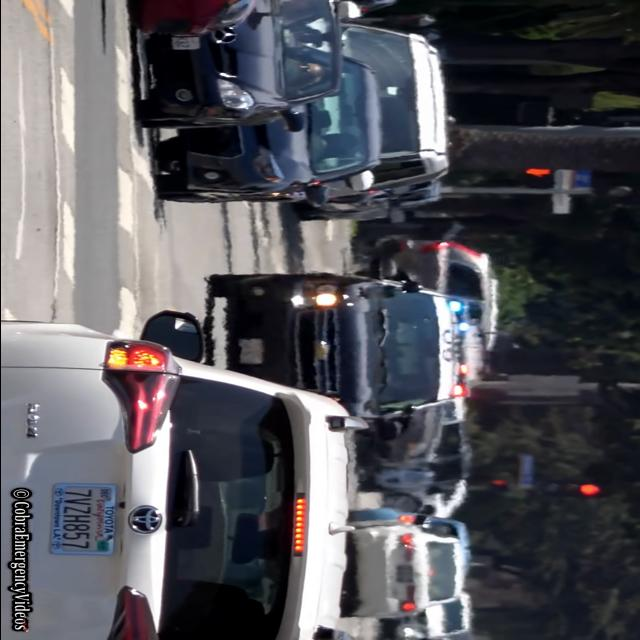emergency-vehicles: (196, 247, 490, 441)
